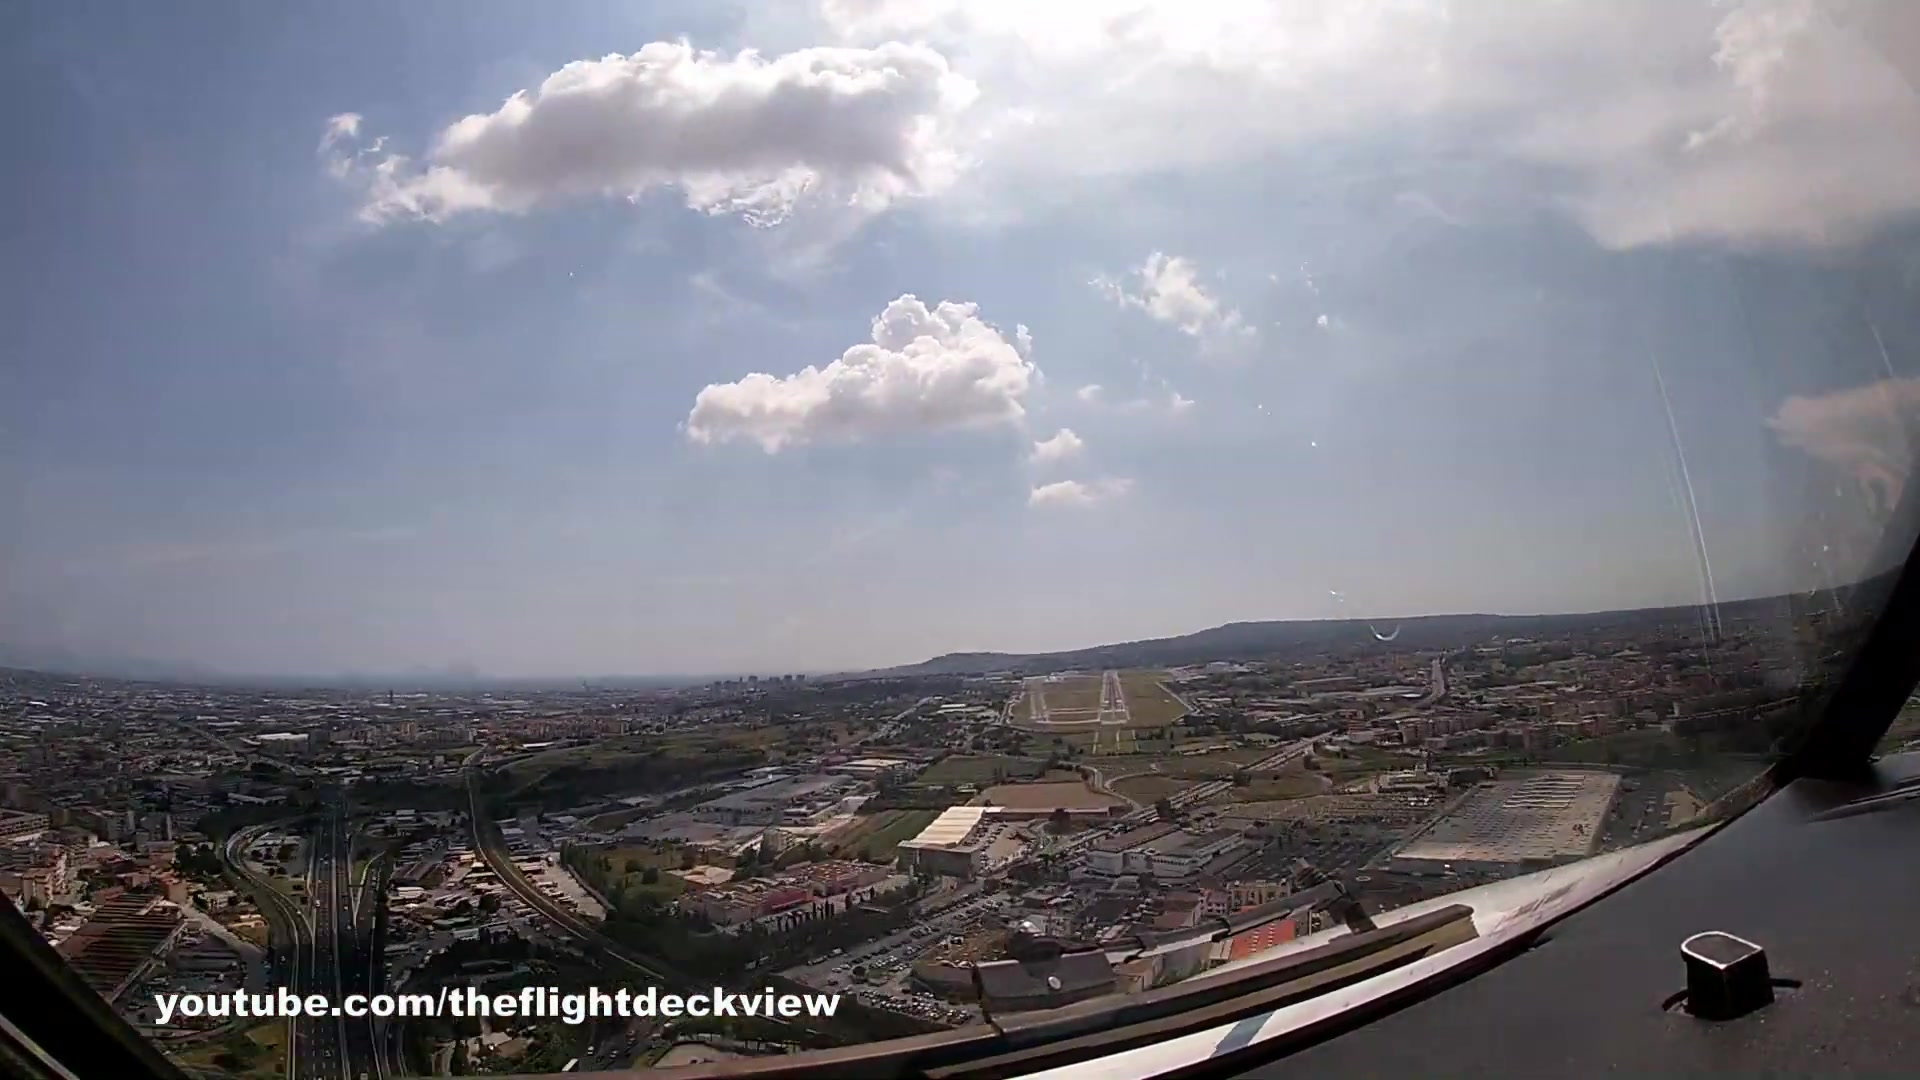runway: (1095, 671, 1131, 727)
